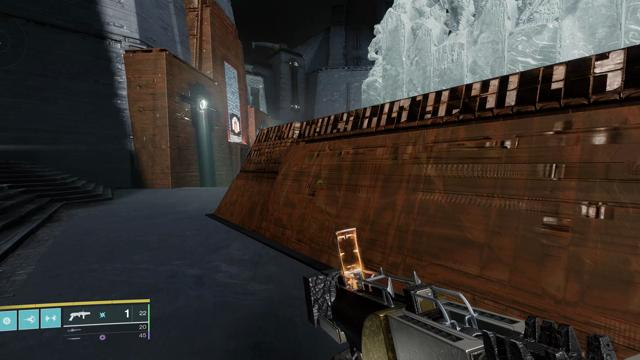worship: (232, 116, 240, 133)
